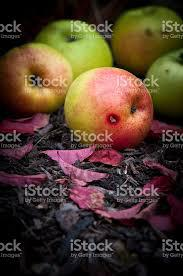damaged_apple: (68, 66, 153, 144), (2, 47, 74, 109)
